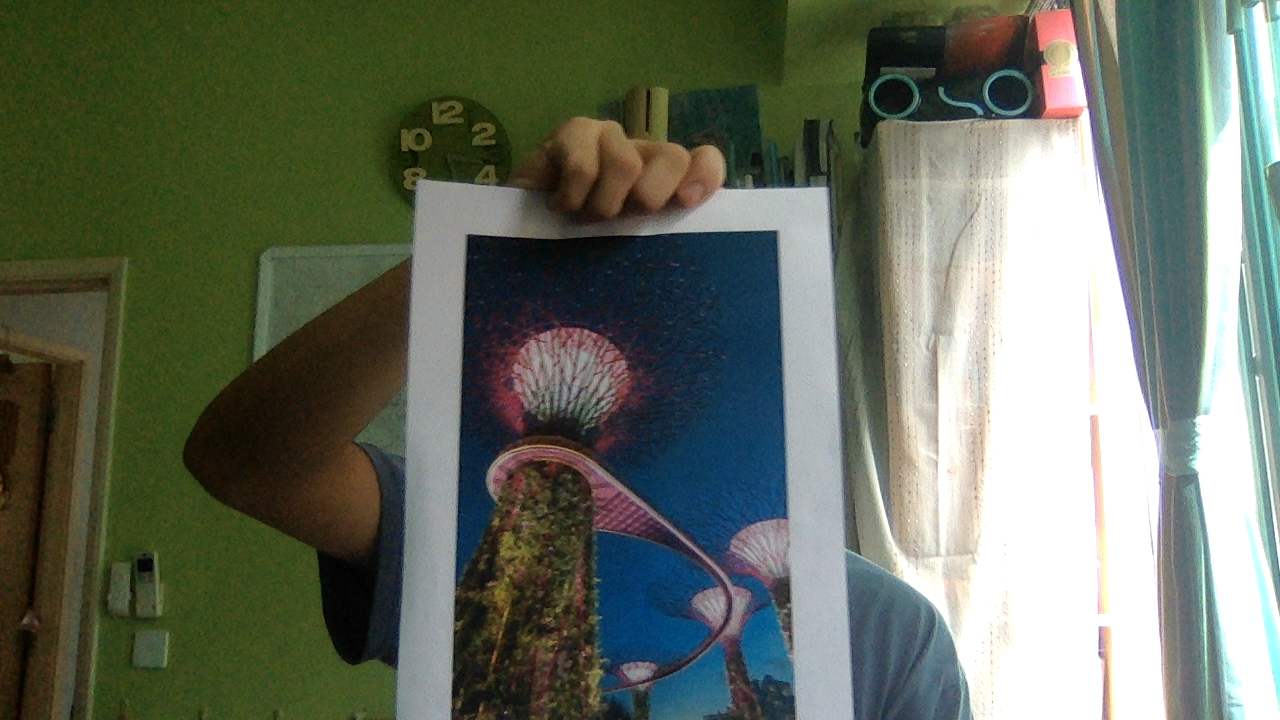GBTB: (453, 222, 800, 720)
